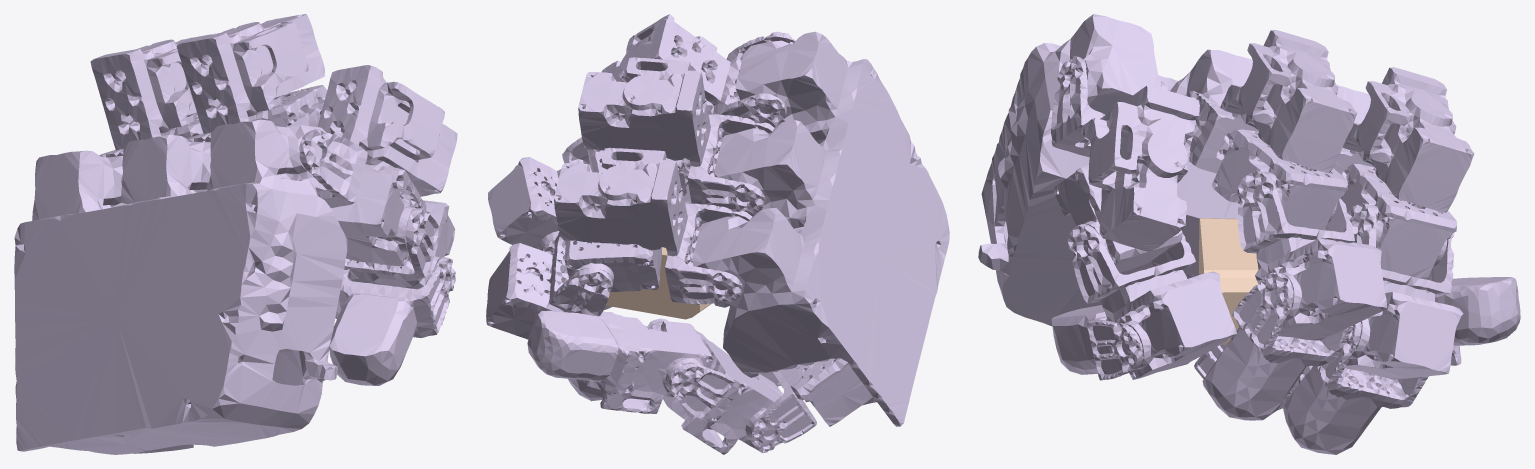
The model's file is ffd2cbd45d4343-closed.glb.
3 renders of one model, left to right at view 1: azimuth 30°, elevation 25°; view 2: azimuth 150°, elevation 25°; view 3: azimuth 270°, elevation 25°, orthographic. The views are drawn at different scales.
Parts seen in each view (by area): view 1: LEAP_hand; view 2: LEAP_hand, world; view 3: LEAP_hand, world.
Boxes of the visible parts, bbox=[...] form: LEAP_hand: bbox=[14, 14, 457, 454]; LEAP_hand: bbox=[486, 14, 949, 454]; world: bbox=[605, 247, 710, 319]; LEAP_hand: bbox=[978, 14, 1520, 454]; world: bbox=[1199, 218, 1258, 344].
Bounding box in the file's own units: 0.1656 × 0.1532 × 0.1805.
